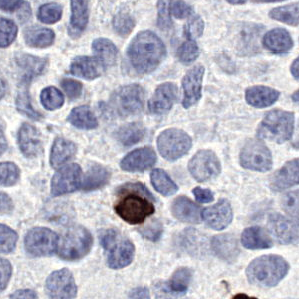Lymphocyte: (113, 192, 157, 227)
